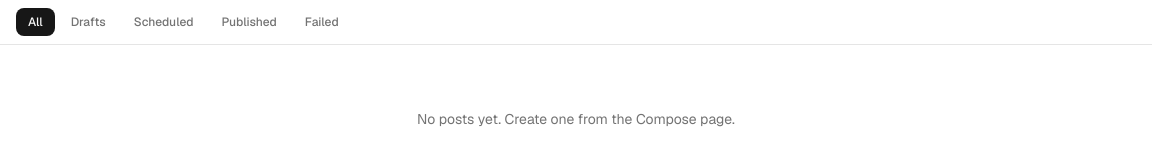
Scenario: social posts page localization › uses the localized status in filtered empty states
Check: the text "No posts yet. Create one from the Compose page." is shown, box [417,109,735,129]
Click the button "Drafts": (88, 22) [59,8,118,36]
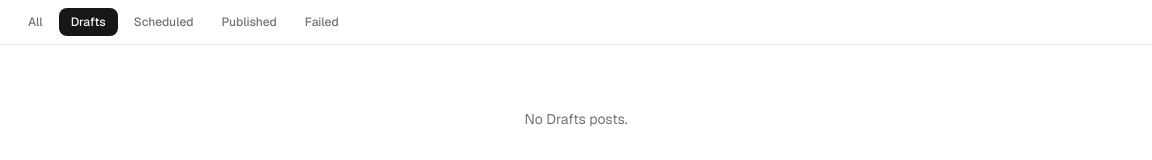
Check: the text "No Drafts posts." is shown, box [524,109,628,129]
